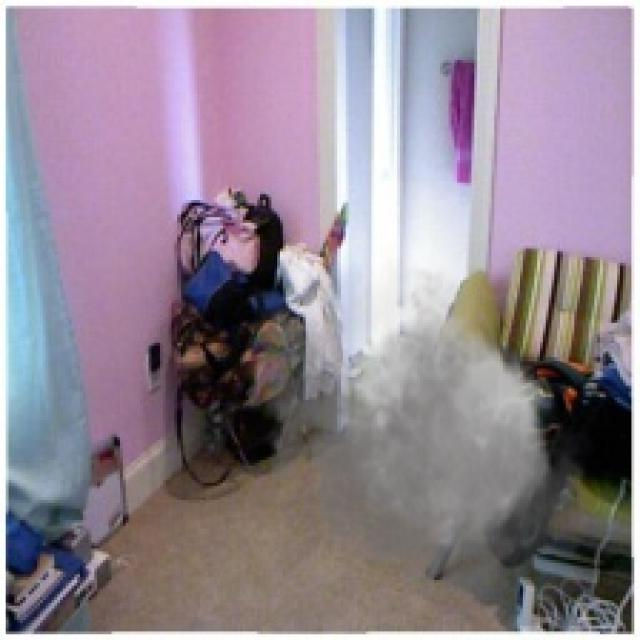smoke: (246, 246, 603, 617)
